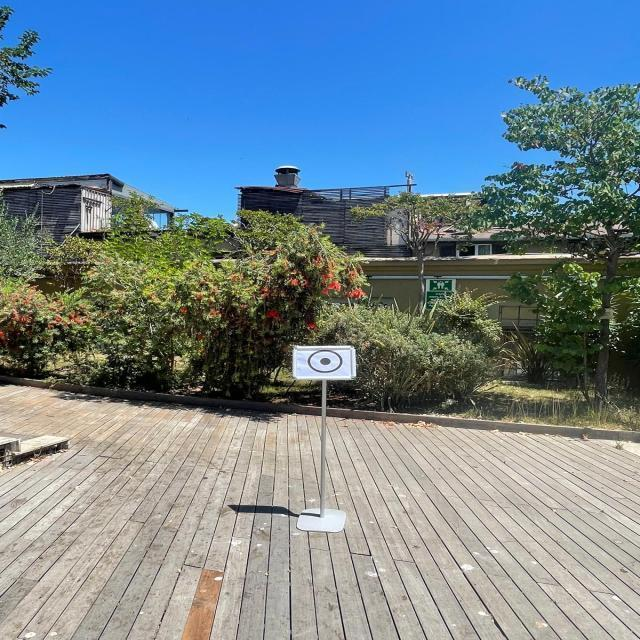Target: (286, 342, 366, 386)
inner: (320, 356, 331, 368)
